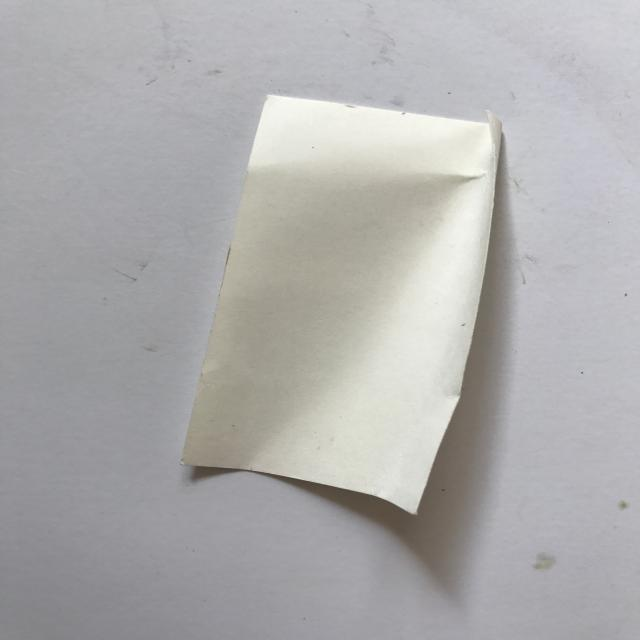paper: (180, 94, 504, 522)
